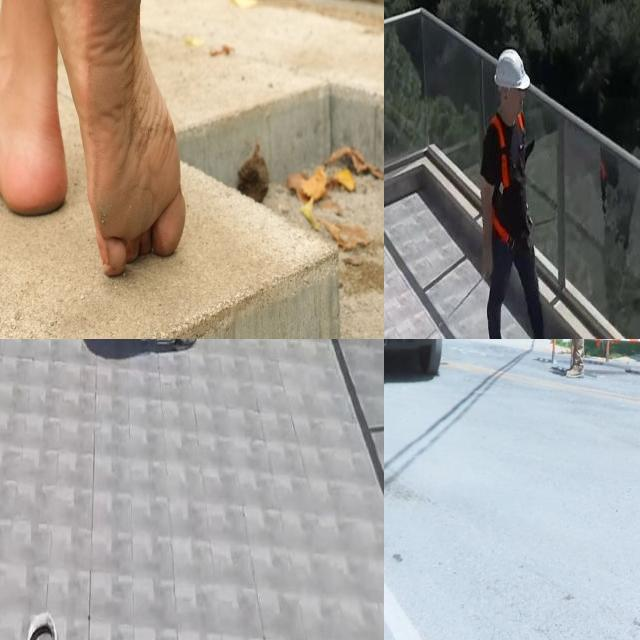Barefoots: (79, 0, 185, 277), (0, 96, 67, 217)
Harness: (491, 113, 515, 244)
